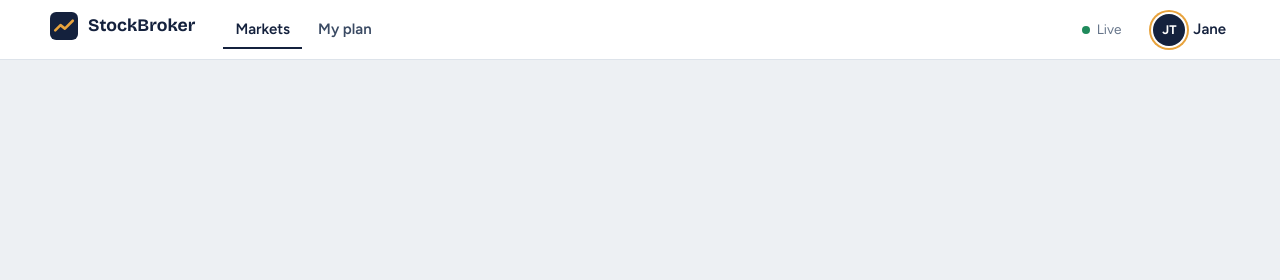
Test: Navbar › shows "My plan" for Premium users
The width and height of the screenshot is (1280, 280).
Expected: the link "My plan" is shown, [318,20,372,38]
Click the button "JT Jane" at (1190, 30), box [1149,10,1230,50]
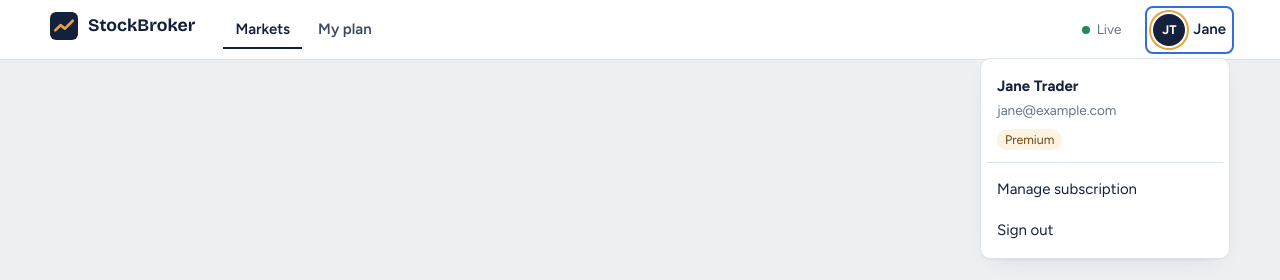
Expected: the text "Premium" is shown, [997,129,1062,150]
